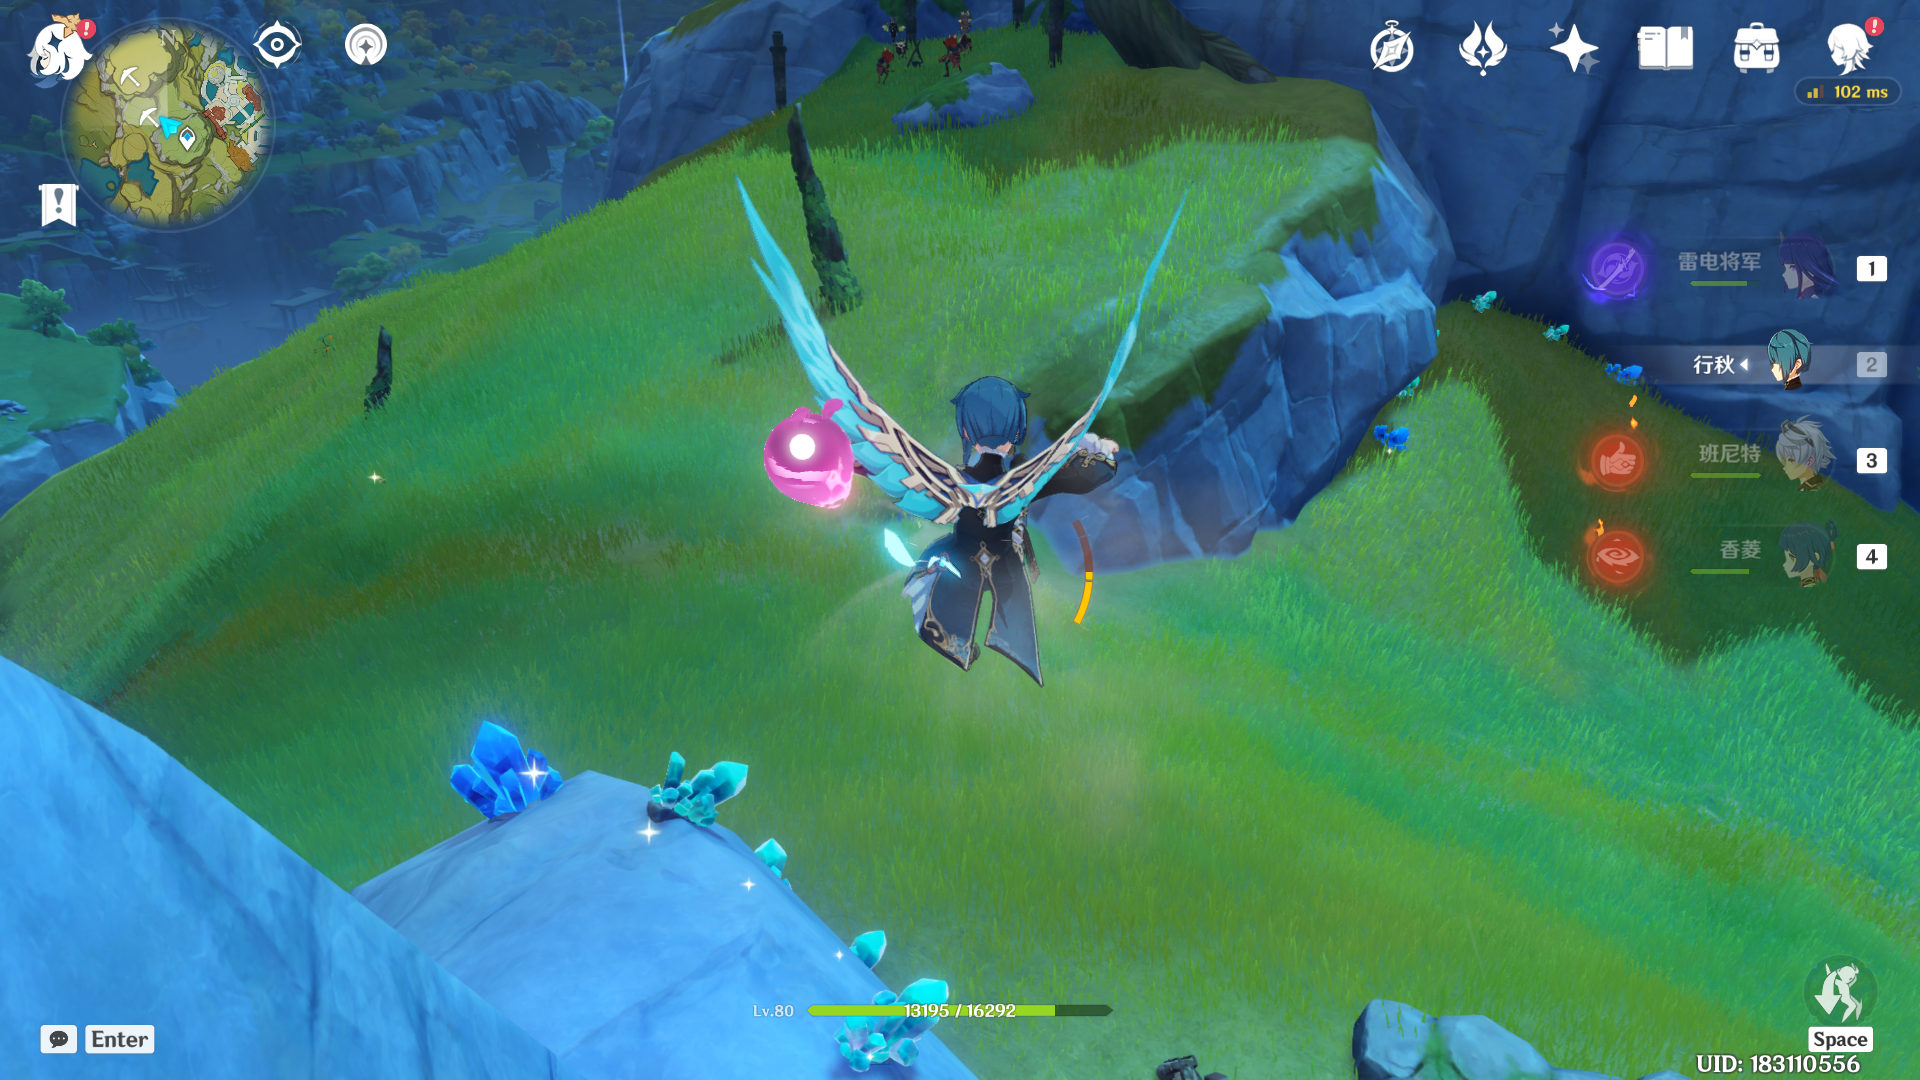character: (769, 299, 1162, 725)
